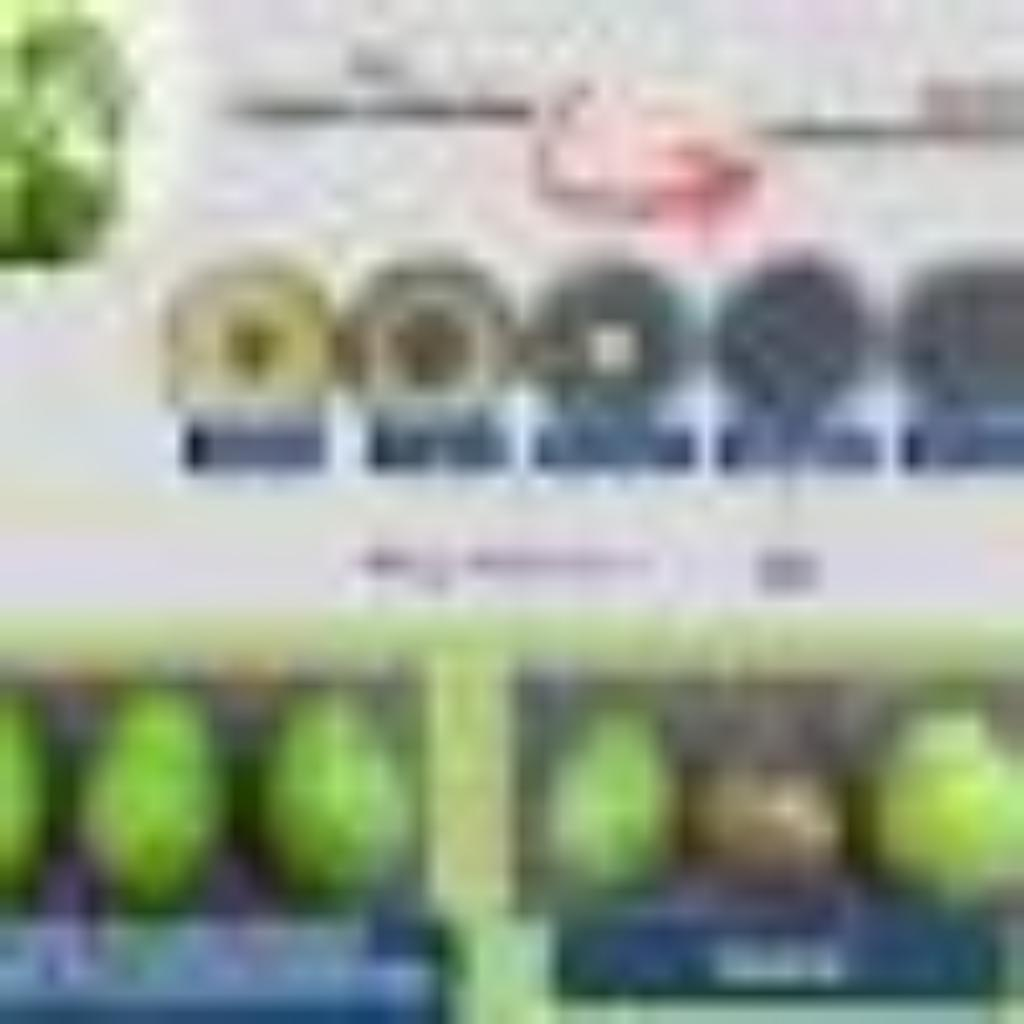Anthracnose: (184, 287, 614, 471), (543, 717, 871, 901)
